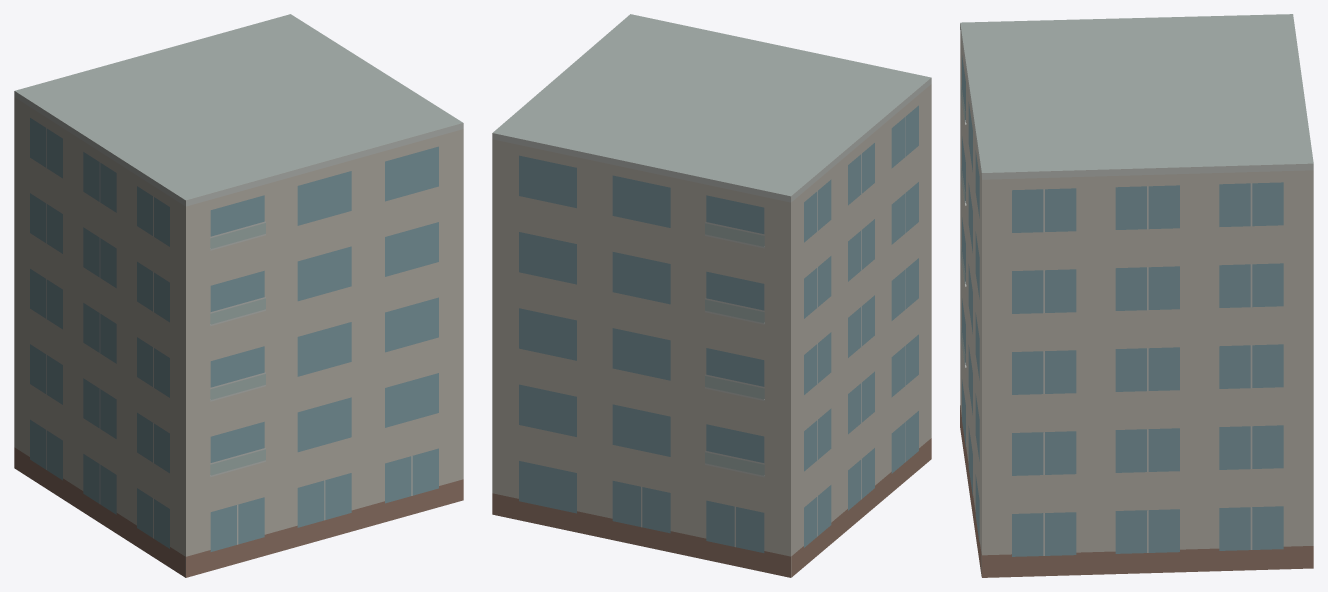
The model's file is survey-upis-32698630.glb.
The picture shows the model from 3 angles, left to right: view 1: azimuth 30°, elevation 25°; view 2: azimuth 150°, elevation 25°; view 3: azimuth 270°, elevation 25°; orthographic projection. The views are drawn at different scales.
Parts seen in each view (by area): view 1: survey-upis-32698630.tmp; view 2: survey-upis-32698630.tmp; view 3: survey-upis-32698630.tmp.
Part boxes in pixels (bbox=[...]): survey-upis-32698630.tmp: bbox=[14, 14, 463, 577]; survey-upis-32698630.tmp: bbox=[492, 14, 931, 577]; survey-upis-32698630.tmp: bbox=[960, 14, 1313, 577].
Bounding box in the file's own units: 12.57 × 14.9 × 11.81.
